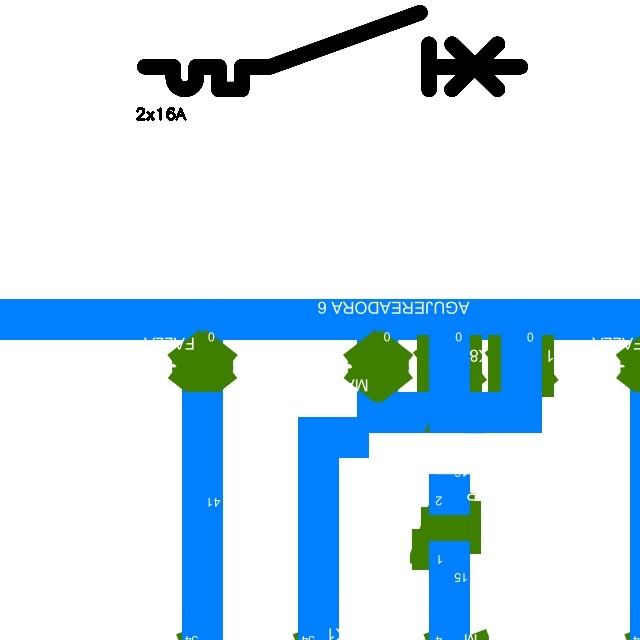interruptor_termomagnetico: (135, 3, 530, 99)
